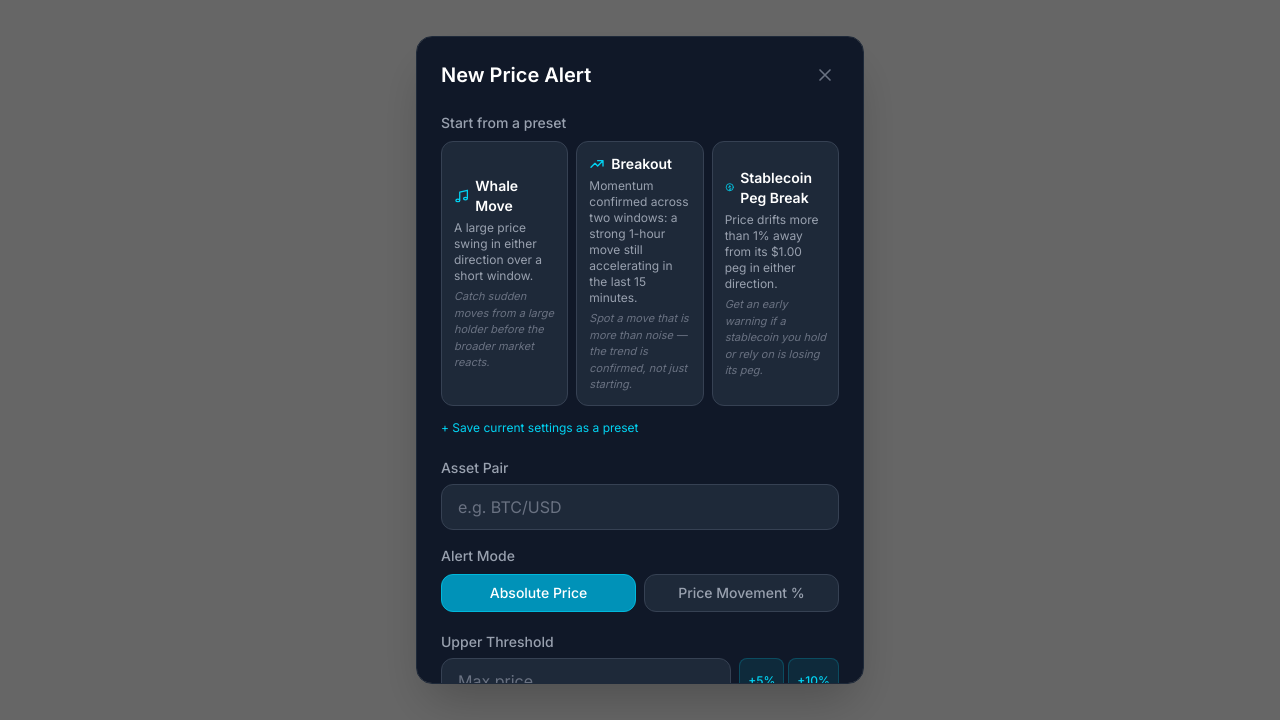
it: AlertModal › fills upper threshold from suggestion button
Click the button "+10%": (814, 680) x1=788 y1=658 x2=839 y2=704
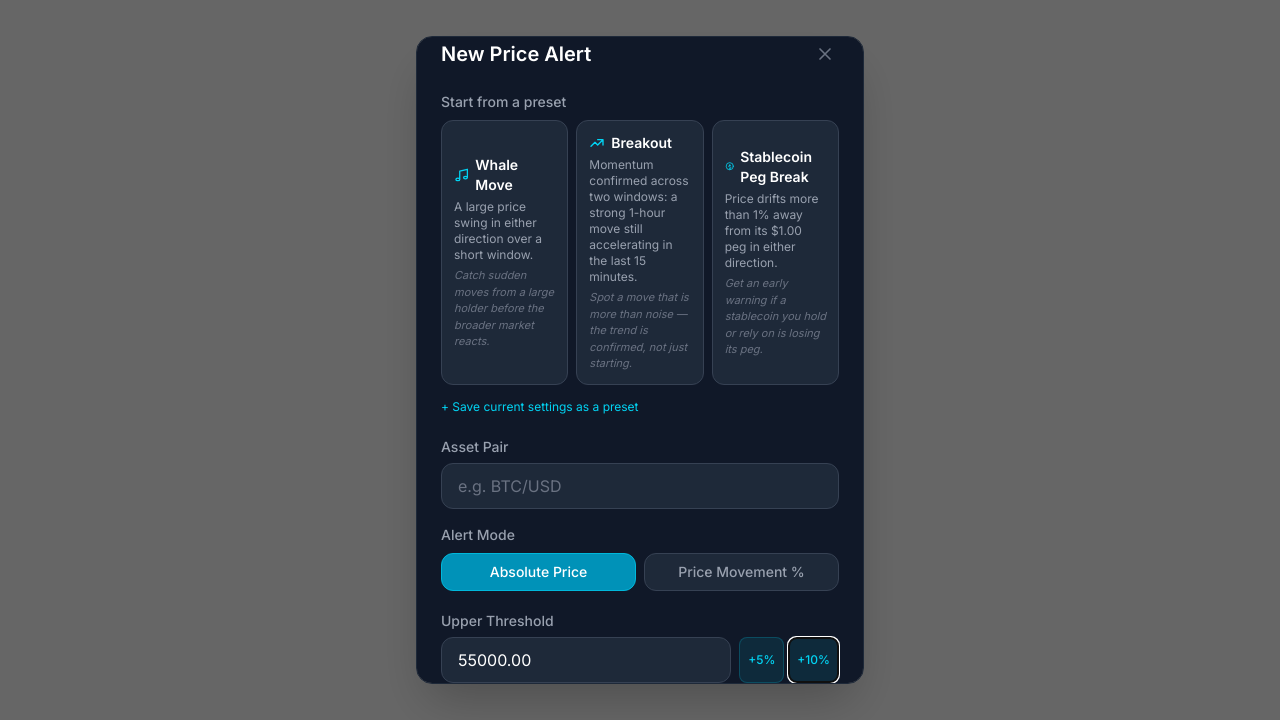
Now the number field labelled "Upper Threshold" holds "55000", box x1=441 y1=636 x2=731 y2=682
